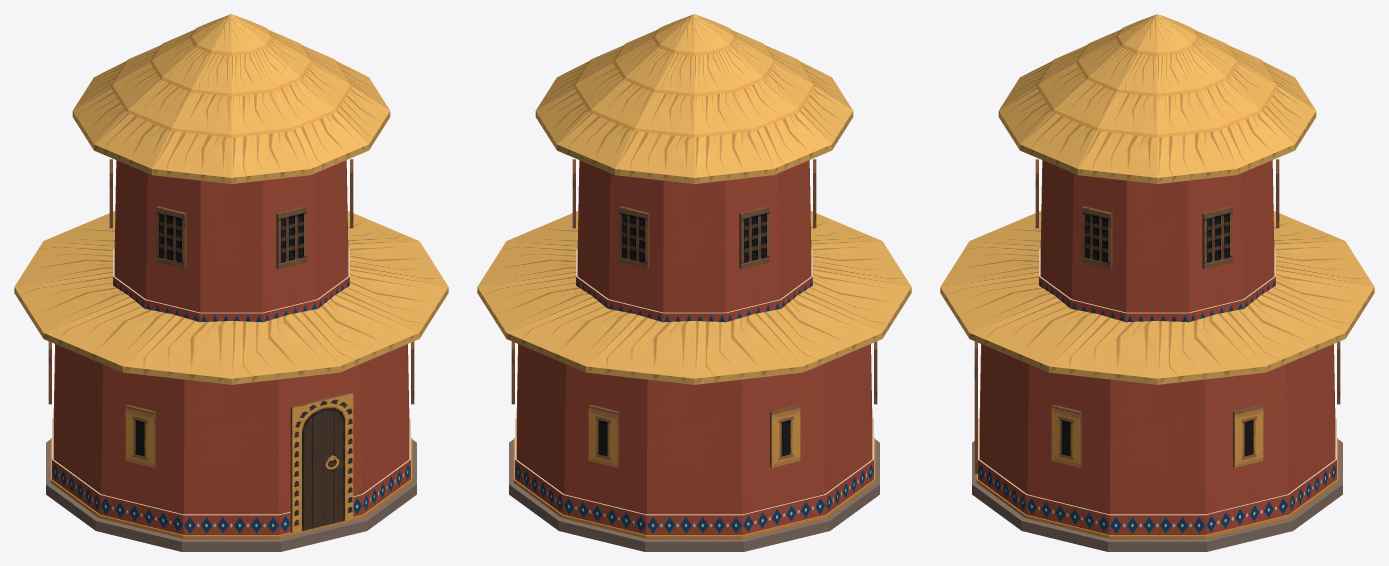
The model's file is rc_village_hut_round_2f_setback.glb.
The picture shows the model from 3 angles, left to right: view 1: azimuth 30°, elevation 25°; view 2: azimuth 150°, elevation 25°; view 3: azimuth 270°, elevation 25°; orthographic projection.
Parts seen in each view (by area): view 1: SM_RC_MudHut_Round_2F_Setback; view 2: SM_RC_MudHut_Round_2F_Setback; view 3: SM_RC_MudHut_Round_2F_Setback.
Part boxes in pixels (box(x1,y1,x2,y2)): SM_RC_MudHut_Round_2F_Setback: box(14, 14, 448, 551); SM_RC_MudHut_Round_2F_Setback: box(477, 14, 911, 551); SM_RC_MudHut_Round_2F_Setback: box(940, 14, 1374, 551).
Bounding box in the file's own units: 8.94 × 10.44 × 8.94.
1 material, 1 textured.
